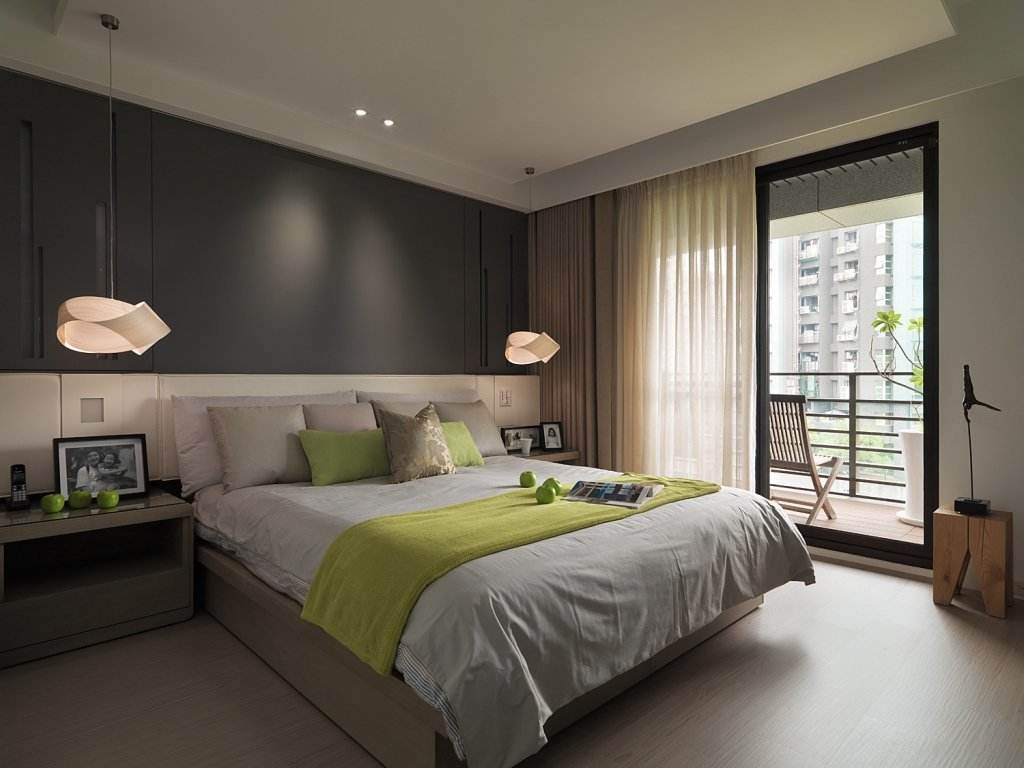床: (193, 461, 822, 734)
枕头: (191, 388, 511, 488)
灯: (44, 296, 171, 368), (503, 327, 568, 377), (345, 104, 375, 124), (375, 112, 401, 134)
